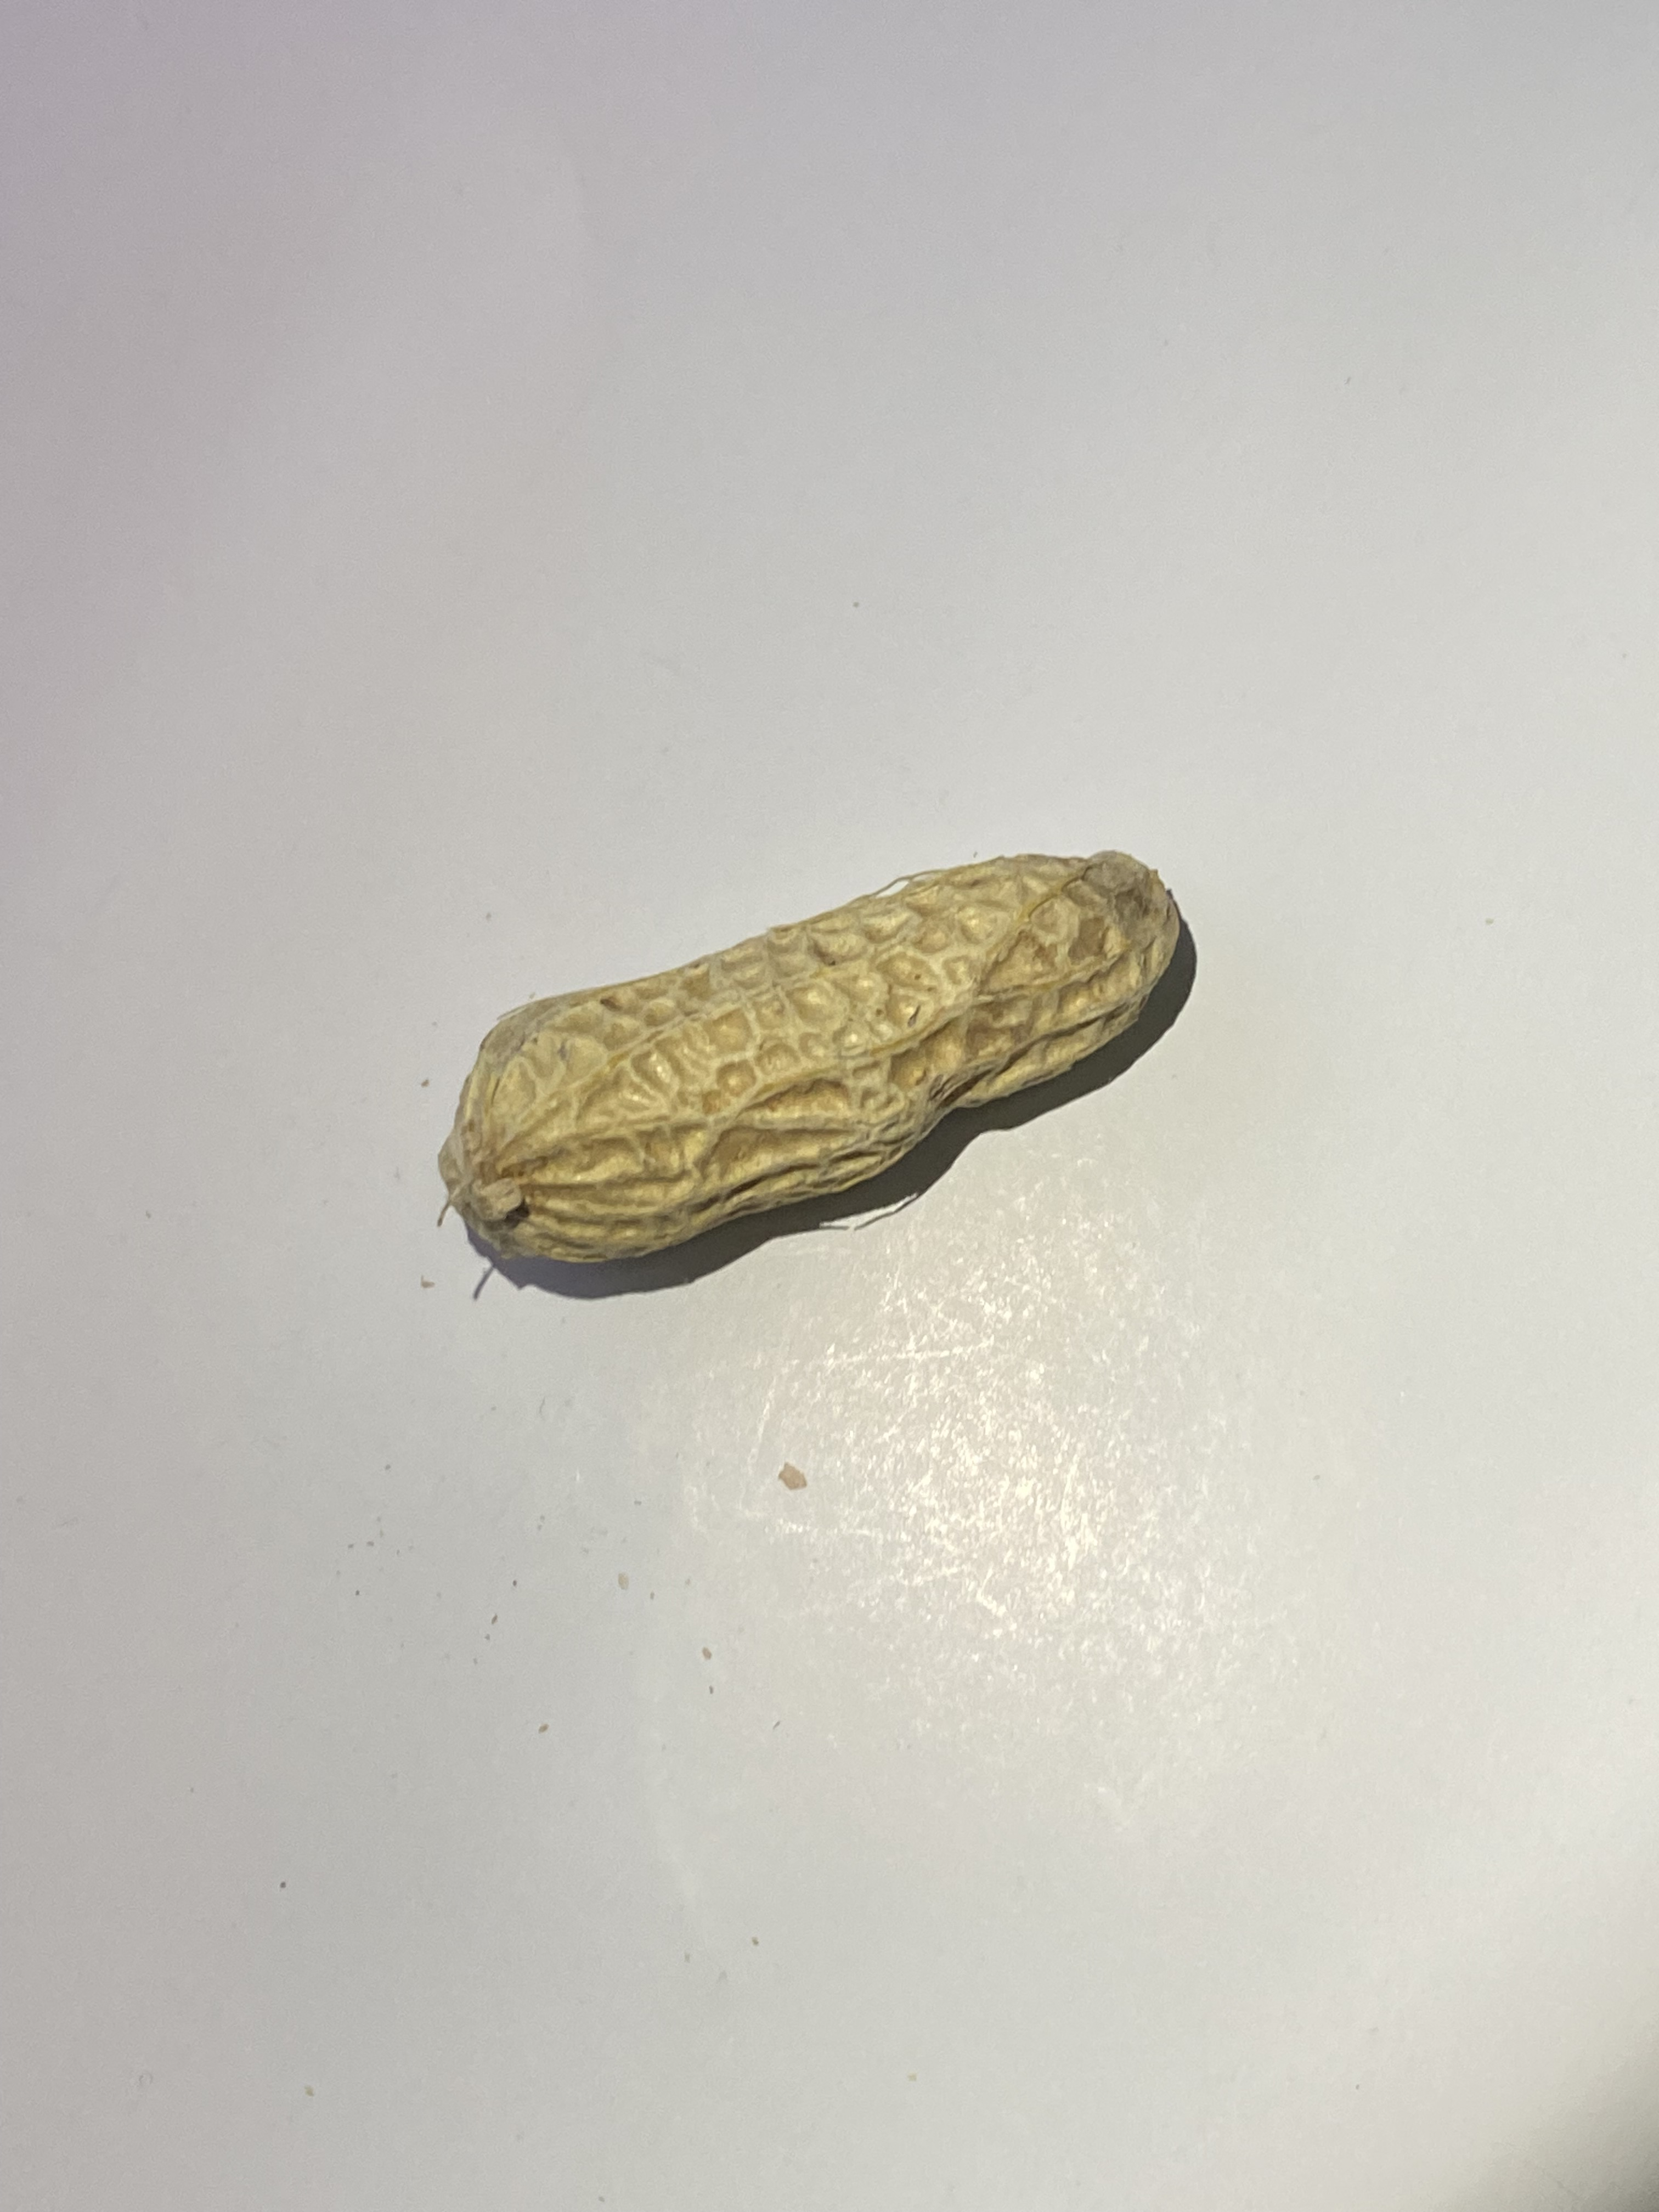kacang3: (399, 801, 1229, 1287)
